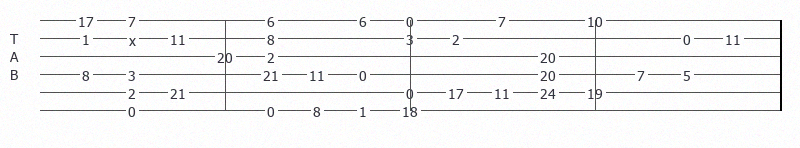0: (128, 103, 140, 117), (267, 103, 279, 117), (359, 67, 371, 81), (406, 85, 418, 99), (406, 13, 418, 27), (683, 31, 695, 45)
1: (82, 31, 94, 45), (359, 103, 371, 117)
10: (587, 13, 607, 27)
11: (170, 31, 190, 45), (309, 67, 329, 81), (494, 85, 514, 99), (725, 31, 745, 45)
17: (78, 13, 98, 27), (448, 85, 468, 99)
18: (402, 103, 422, 117)
19: (587, 85, 607, 99)
2: (128, 85, 140, 99), (267, 49, 279, 63), (452, 31, 464, 45)
20: (217, 49, 237, 63), (540, 49, 560, 63), (540, 67, 560, 81)
21: (170, 85, 190, 99), (263, 67, 283, 81)
24: (540, 85, 560, 99)
3: (128, 67, 140, 81), (406, 31, 418, 45)
5: (683, 67, 695, 81)
6: (267, 13, 279, 27), (359, 13, 371, 27)
7: (128, 13, 140, 27), (498, 13, 510, 27), (637, 67, 649, 81)
8: (82, 67, 94, 81), (267, 31, 279, 45), (313, 103, 325, 117)
x: (129, 32, 140, 44)
